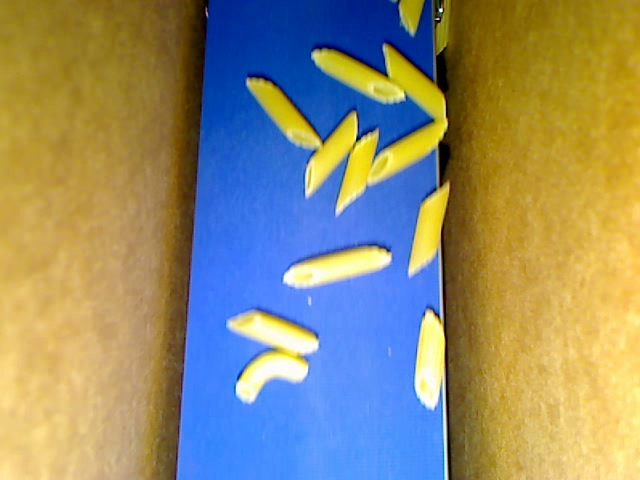elbow: (232, 349, 311, 403)
penne: (243, 78, 322, 152), (369, 116, 451, 184), (301, 106, 364, 193), (406, 175, 456, 278), (383, 41, 450, 116), (309, 47, 405, 99), (224, 308, 318, 356), (280, 248, 395, 286), (413, 307, 453, 409), (335, 127, 381, 209), (390, 1, 431, 37), (436, 1, 451, 55)
